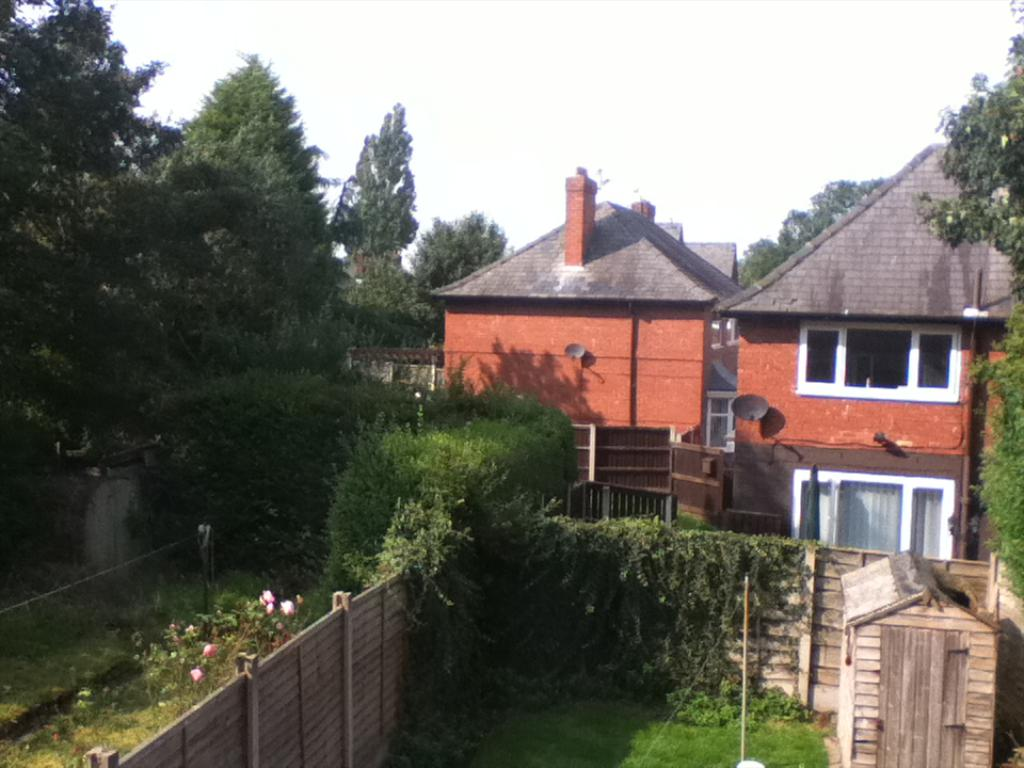Window: (791, 468, 958, 563), (798, 319, 962, 400), (708, 394, 740, 453)
